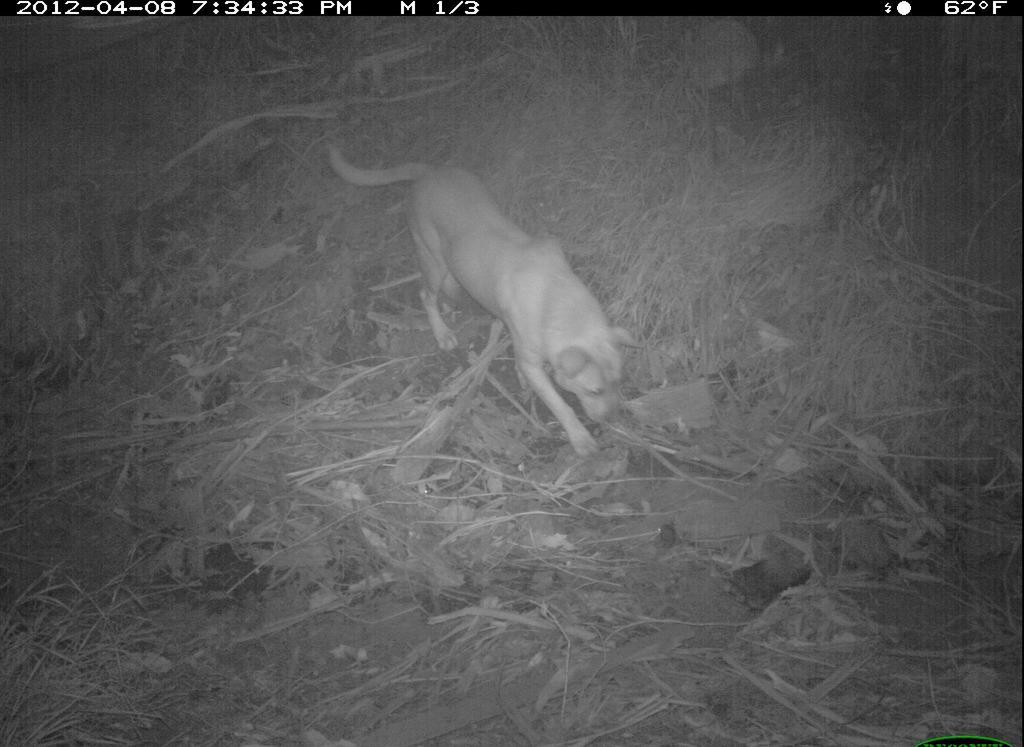dog: (310, 137, 653, 469)
